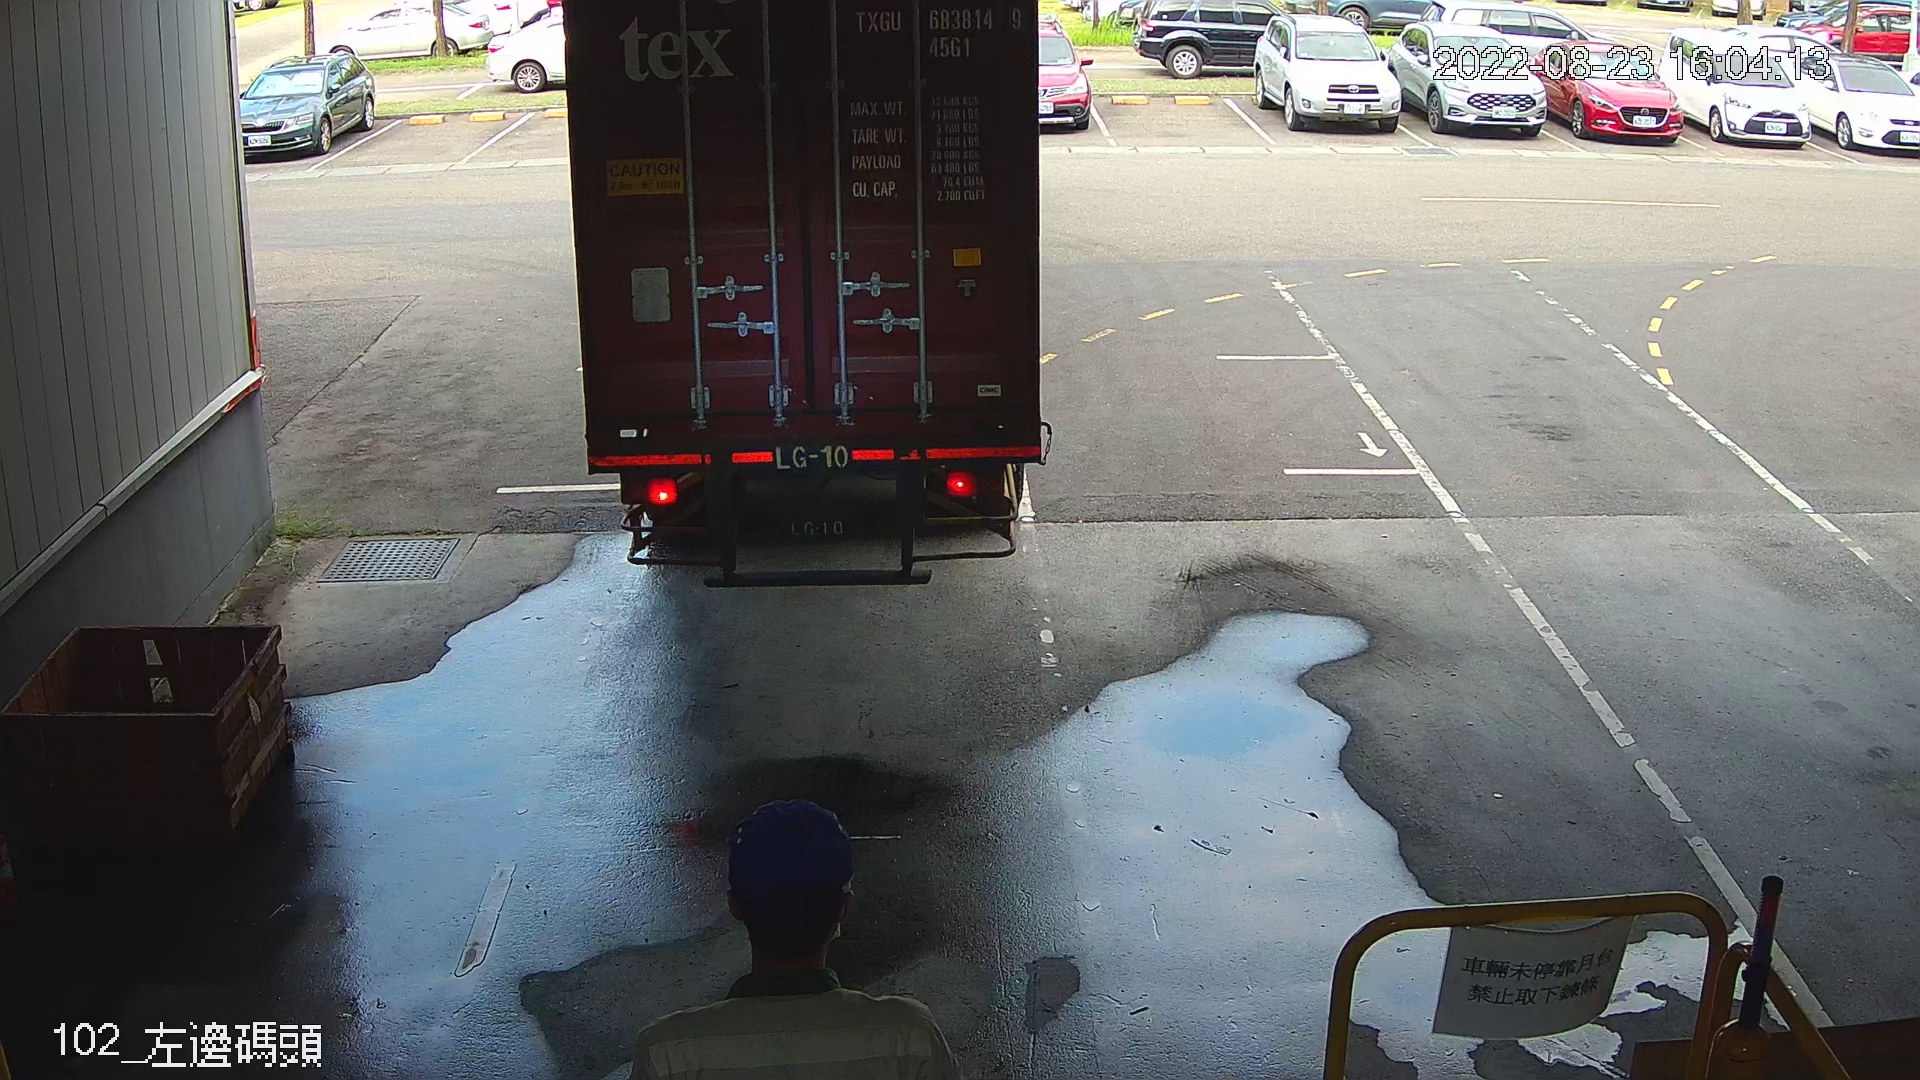container: (851, 3, 1029, 65)
